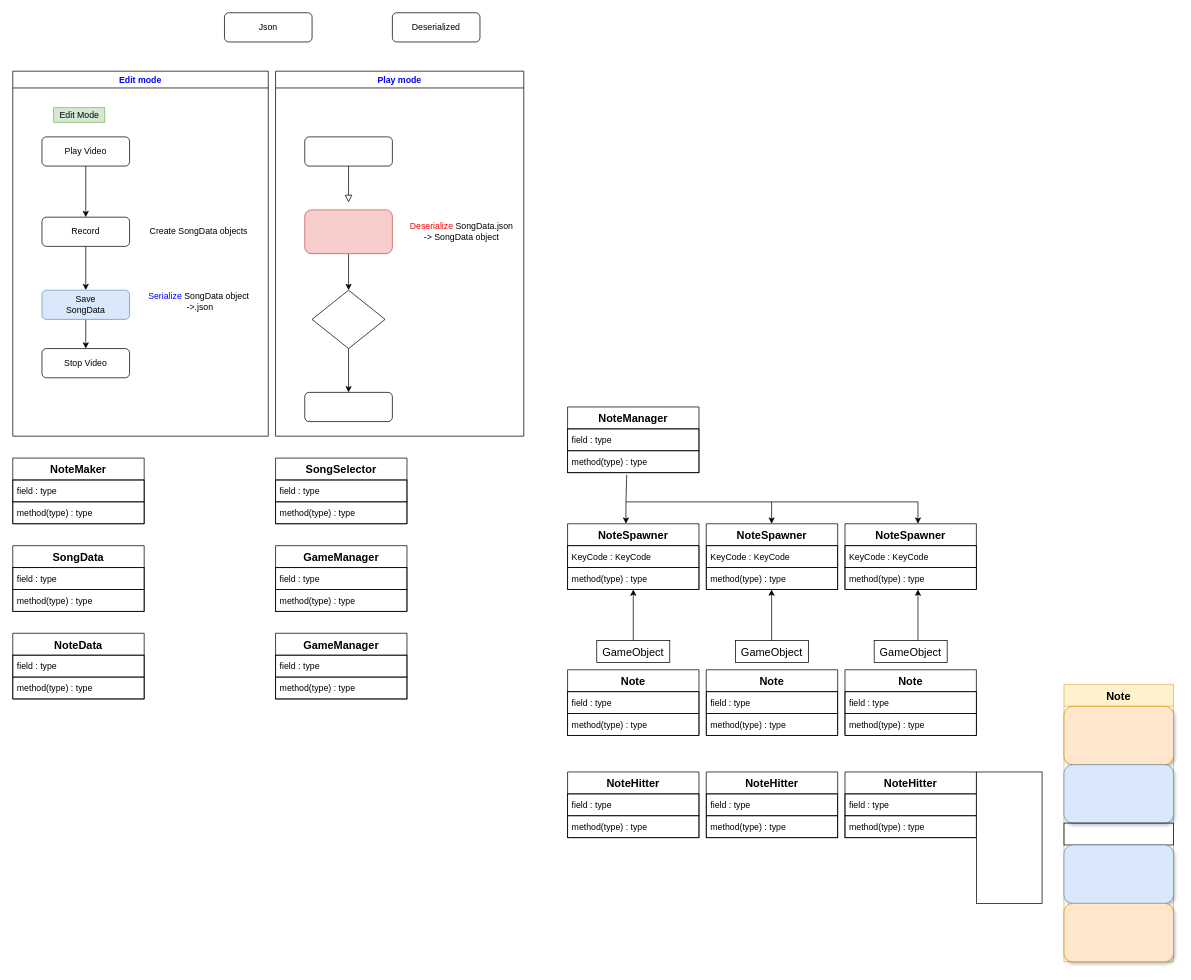
This 1191x980 diagram has some shape labels left out. Here are the shapes that lost their labels. From the top down, the centre of each, then its label:
At point (348, 151): "Select Song".
At point (348, 231): "PlayGame With the Song".
At point (348, 319): "is Song Finished?".
At point (348, 407): "Display Score".
At point (1009, 837): "<enum> Hit Type Bad, Miss, Good, Great, Cool".
At point (1118, 833): "NoHitter".
